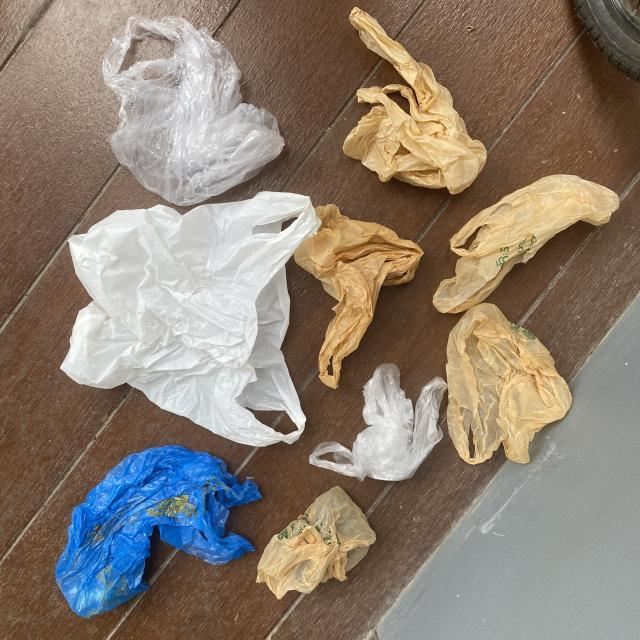Single-layer Plastic: (60, 192, 321, 448), (100, 15, 286, 214), (54, 444, 263, 620), (432, 173, 622, 319), (343, 12, 487, 196), (291, 206, 424, 391), (444, 304, 573, 467), (310, 355, 450, 491), (254, 488, 375, 604)
